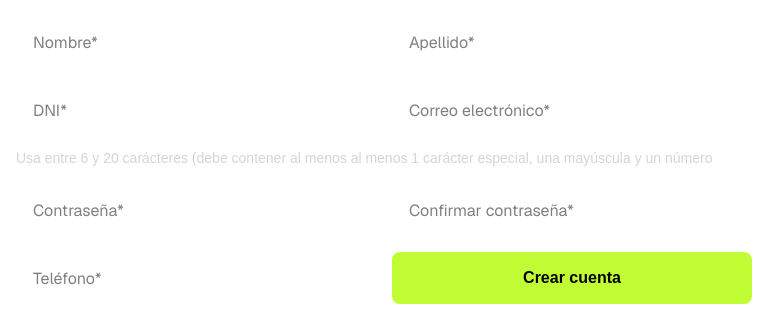
Test: RegisterPage › submits successfully with valid data
The image size is (769, 321).
Step 1. Type "Ana" into the field with placeholder "Nombre*" → [196, 42], box top-left (16, 16), bottom-right (376, 68)
Step 2. Type "Lopez" into the field with placeholder "Apellido*" → [572, 42], box top-left (392, 16), bottom-right (752, 68)
Step 3. Type "12345678" into the field with placeholder "DNI*" → [196, 110], box top-left (16, 84), bottom-right (376, 136)
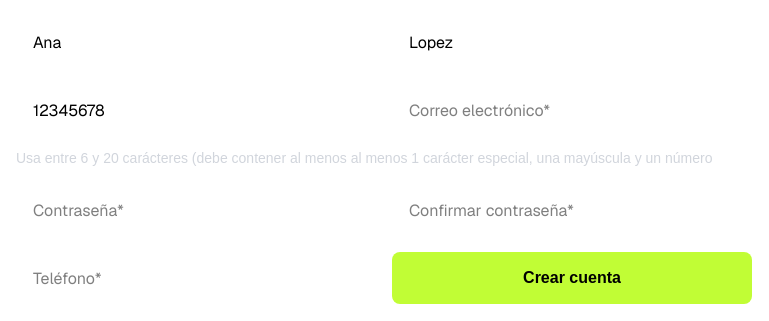
Step 4. Type "ana@demo.com" into the field with placeholder "Correo electrónico*" → [572, 110], box top-left (392, 84), bottom-right (752, 136)
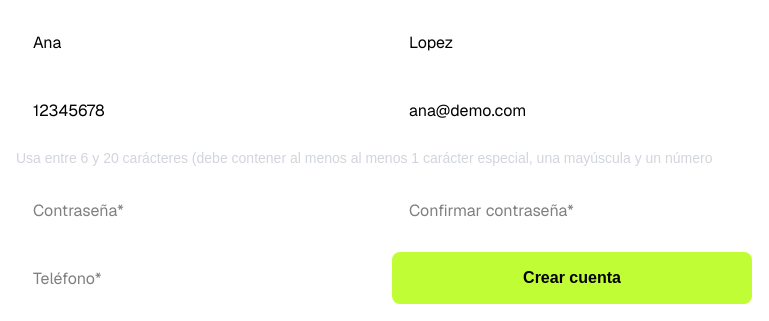
Step 5. Type "Abcdef1!" into the password field with placeholder "Contraseña*" → [196, 210], box top-left (16, 184), bottom-right (376, 236)
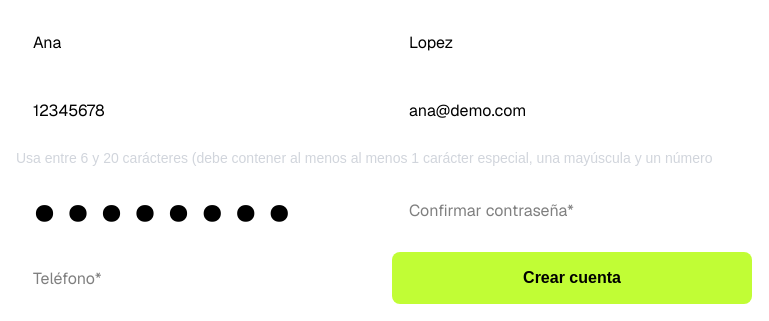
Step 6. Type "Abcdef1!" into the password field with placeholder "Confirmar contraseña*" → [572, 210], box top-left (392, 184), bottom-right (752, 236)
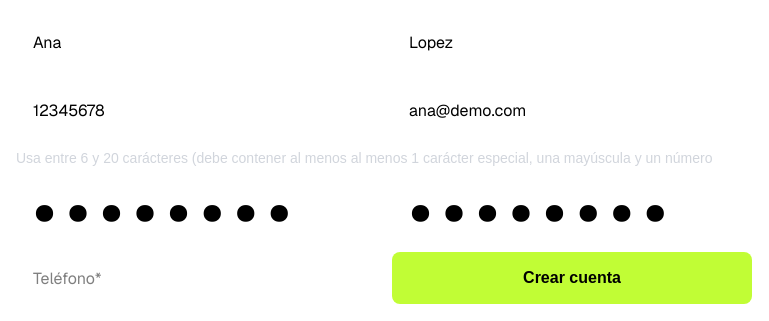
Step 7. Type "11223344" into the field with placeholder "Teléfono*" → [196, 278], box top-left (16, 252), bottom-right (376, 304)
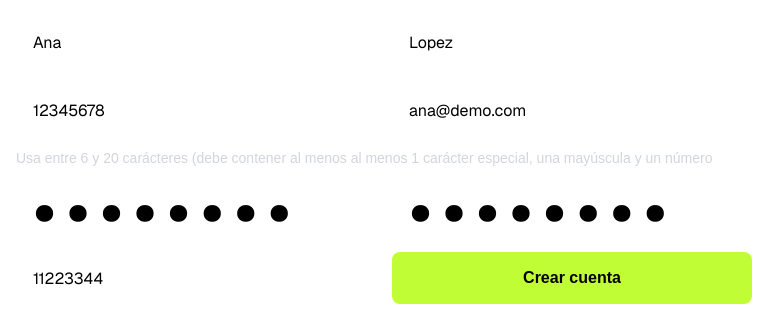
Step 8. Click the button "Crear cuenta" → [572, 278], box top-left (392, 252), bottom-right (752, 304)
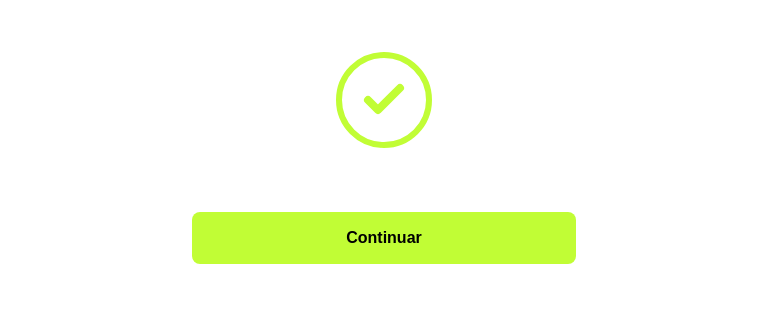
expect the button "Continuar" is shown: met, box top-left (192, 212), bottom-right (576, 264)
